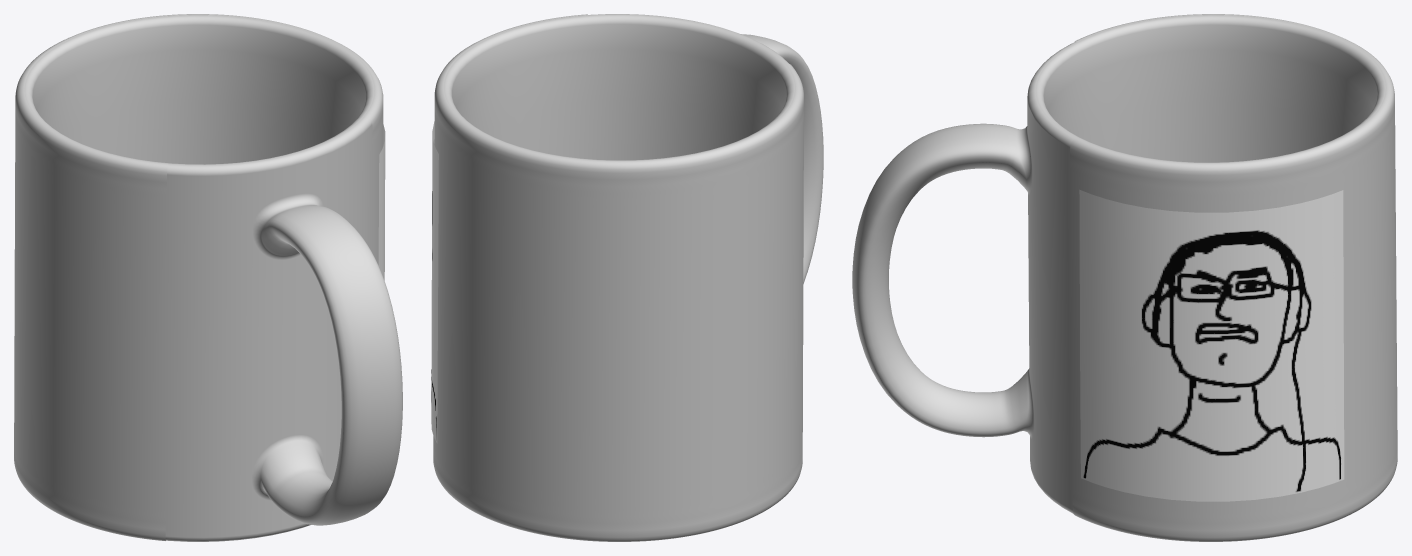
File: 4b7f80b2-1419-45b5-8f83-dc42b3e175da_qwe2.glb
The picture shows the model from 3 angles, left to right: view 1: azimuth 30°, elevation 25°; view 2: azimuth 150°, elevation 25°; view 3: azimuth 270°, elevation 25°; orthographic projection.
Visible parts, largest first — view 1: Mesh_0.001, kaas; view 2: Mesh_0.001, kaas; view 3: Mesh_0.001, kaas.
Part boxes in pixels (x1,y1,x2,y2): Mesh_0.001: [14, 14, 402, 541]; kaas: [378, 124, 385, 280]; Mesh_0.001: [433, 14, 823, 541]; kaas: [431, 121, 438, 443]; Mesh_0.001: [852, 14, 1397, 541]; kaas: [1079, 189, 1344, 501].
Size of the model in its own units: 91.55 by 104 by 135.
Materials: 3 (1 with a texture image).
